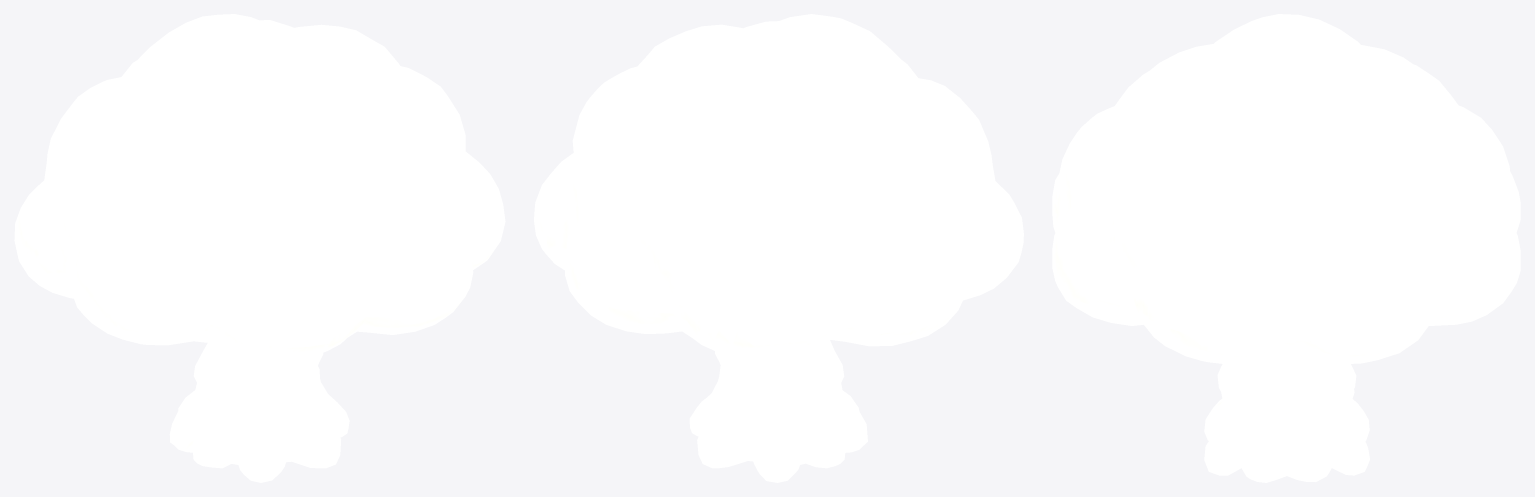
The model's file is arvore-nuvem-2.glb.
3 renders of one model, left to right at view 1: azimuth 30°, elevation 25°; view 2: azimuth 150°, elevation 25°; view 3: azimuth 270°, elevation 25°, orthographic.
Visible parts, largest first — view 1: mesh_node; view 2: mesh_node; view 3: mesh_node.
Boxes of the visible parts, x1=… form: mesh_node: x1=14, y1=14, x2=505, y2=482; mesh_node: x1=534, y1=14, x2=1023, y2=482; mesh_node: x1=1052, y1=14, x2=1520, y2=482.
Bounding box in the file's own units: 1 × 0.998 × 1.
1 material, 1 textured.
